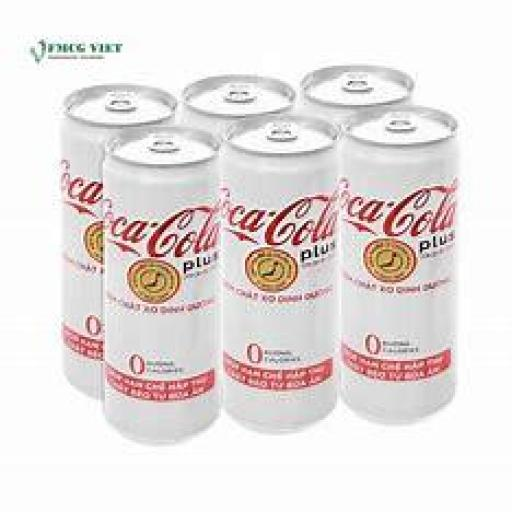can: (212, 116, 342, 437), (332, 105, 460, 428), (100, 123, 222, 447), (62, 83, 178, 399), (300, 63, 415, 134), (184, 74, 296, 120)
pop tab: (107, 88, 139, 112), (225, 81, 256, 105), (344, 70, 376, 91), (149, 133, 181, 154), (385, 112, 415, 132), (267, 120, 297, 140)
